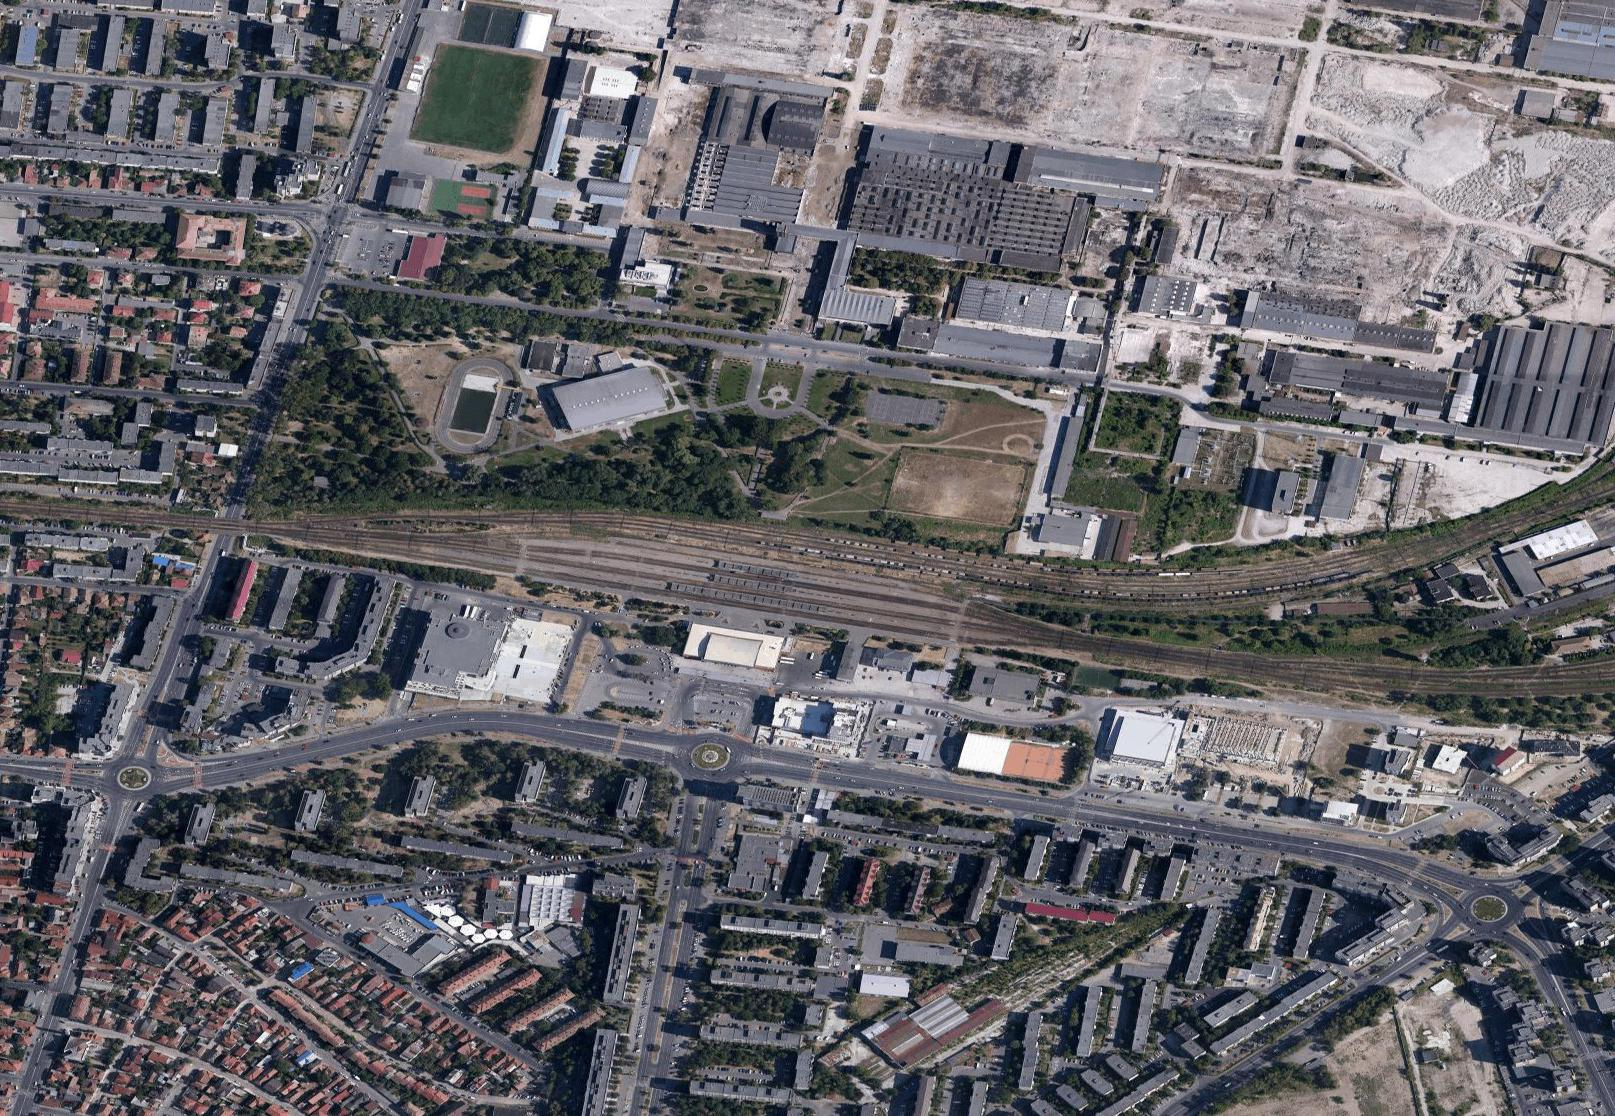train_station: (522, 495, 969, 688)
